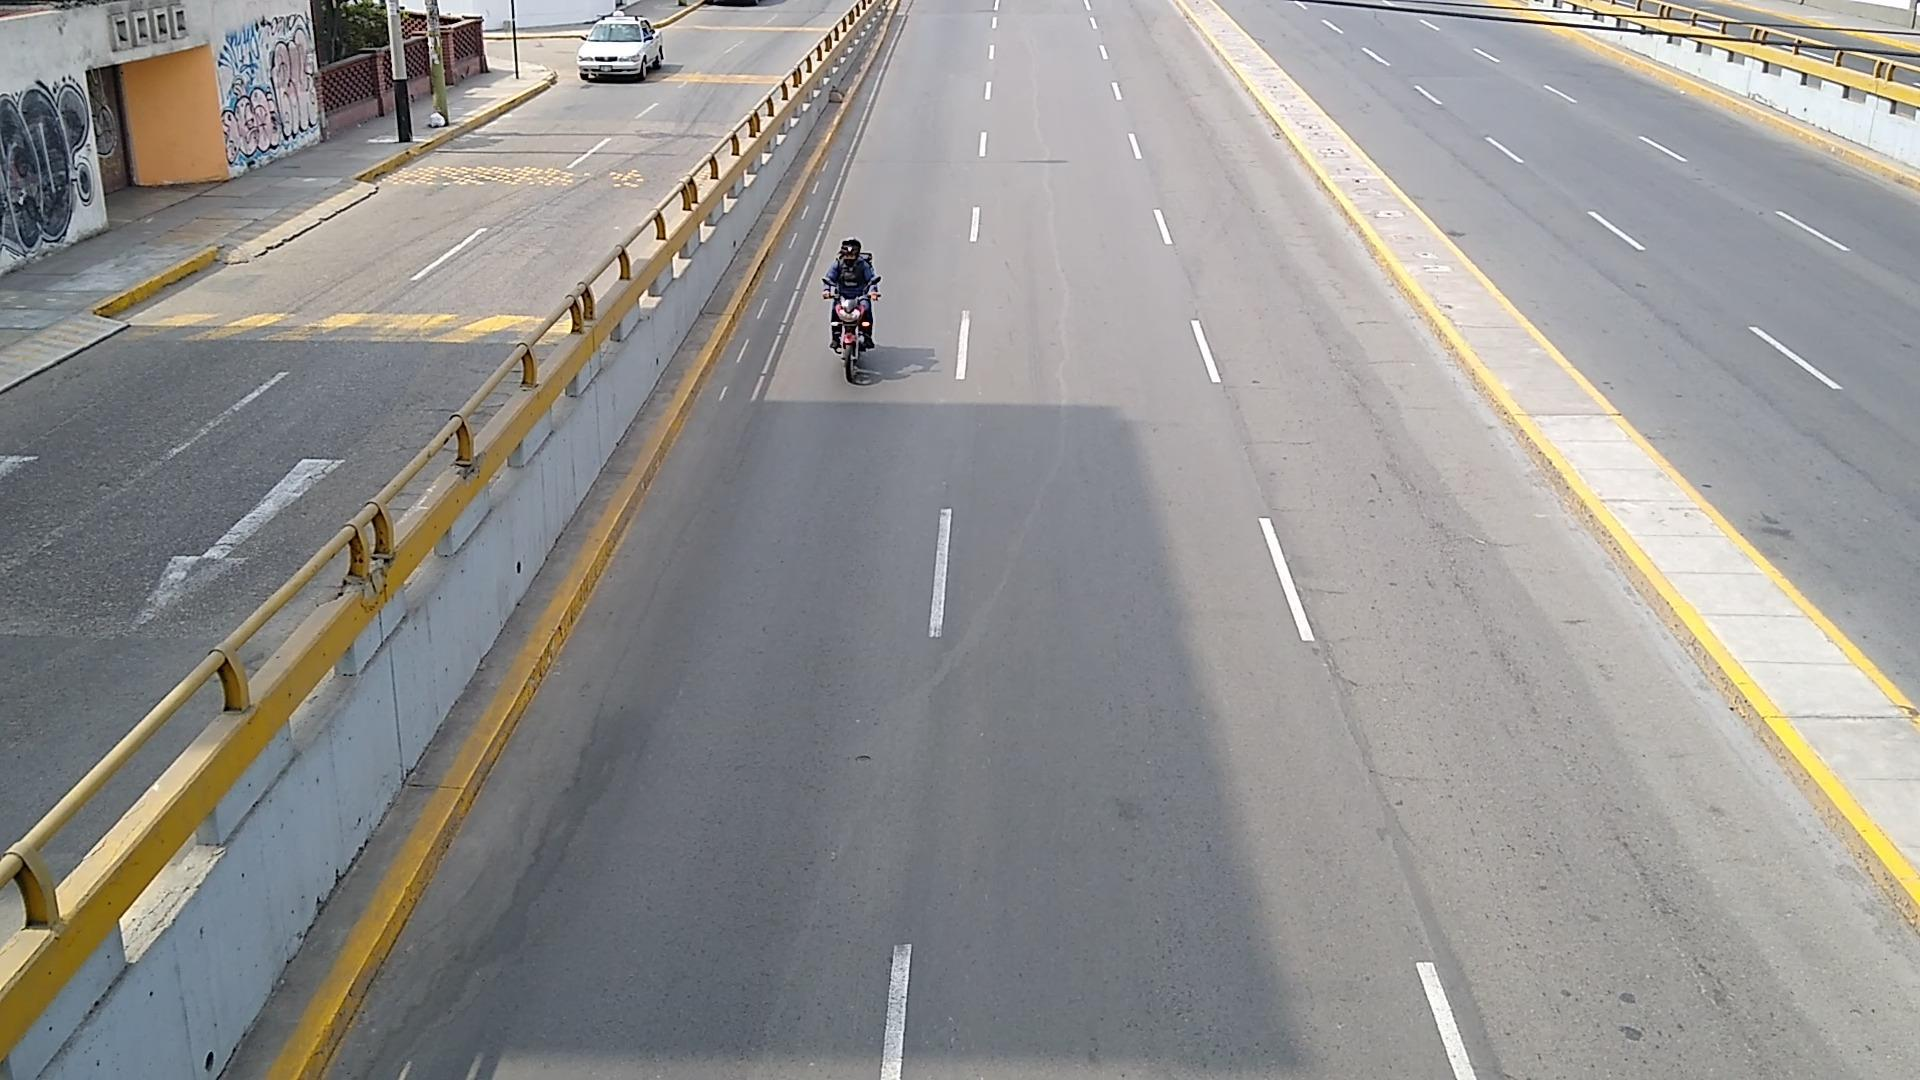car: (578, 15, 663, 79)
